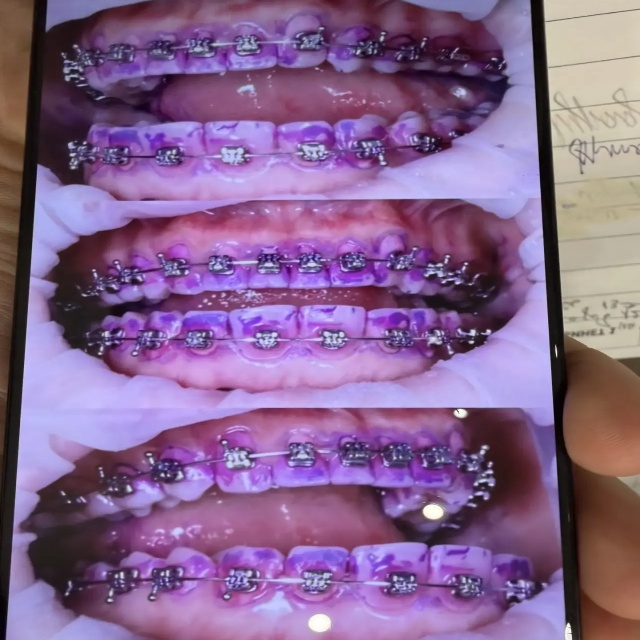clean_tooth: (544, 0, 639, 357)
plaque: (5, 0, 563, 639), (45, 0, 144, 28)
